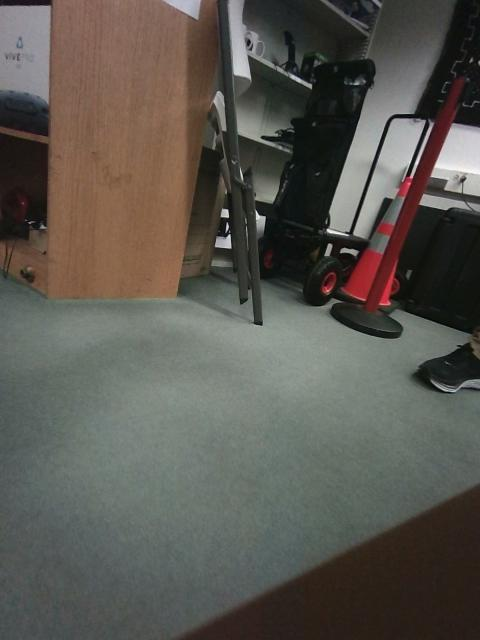block: (207, 293, 240, 326)
